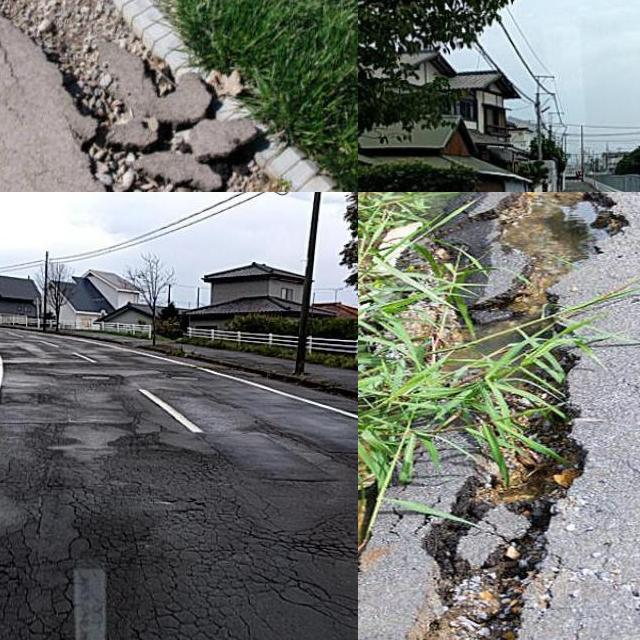Pinggir: (358, 192, 640, 640), (0, 0, 358, 192)
Retak Buaya: (0, 444, 358, 640)
